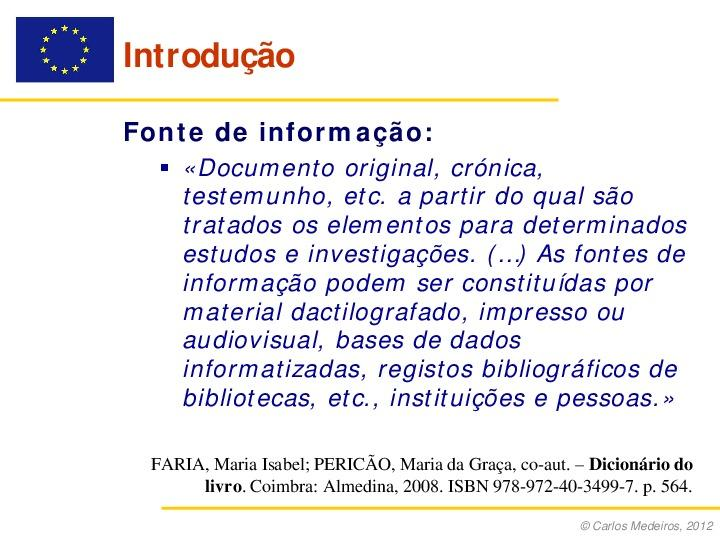paragraph: (137, 146, 703, 509)
subtitle: (115, 116, 448, 148)
title: (122, 36, 311, 81)
